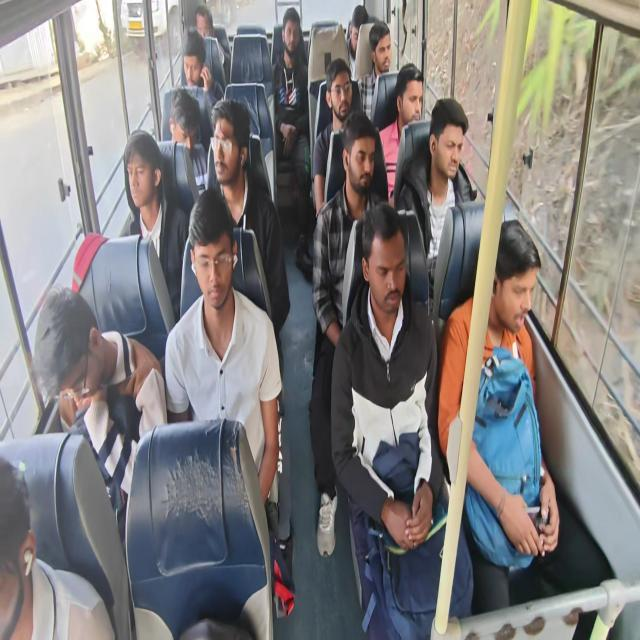person: (31, 3, 562, 636), (329, 201, 474, 638), (437, 218, 560, 611), (164, 187, 284, 547), (308, 111, 388, 557), (32, 284, 165, 548), (207, 98, 290, 386), (0, 457, 116, 639), (398, 97, 475, 296), (123, 130, 188, 322), (272, 7, 311, 269), (312, 57, 354, 218), (378, 63, 424, 204), (168, 88, 208, 194), (356, 21, 392, 120), (180, 29, 223, 109), (194, 4, 228, 84), (347, 4, 368, 80)
